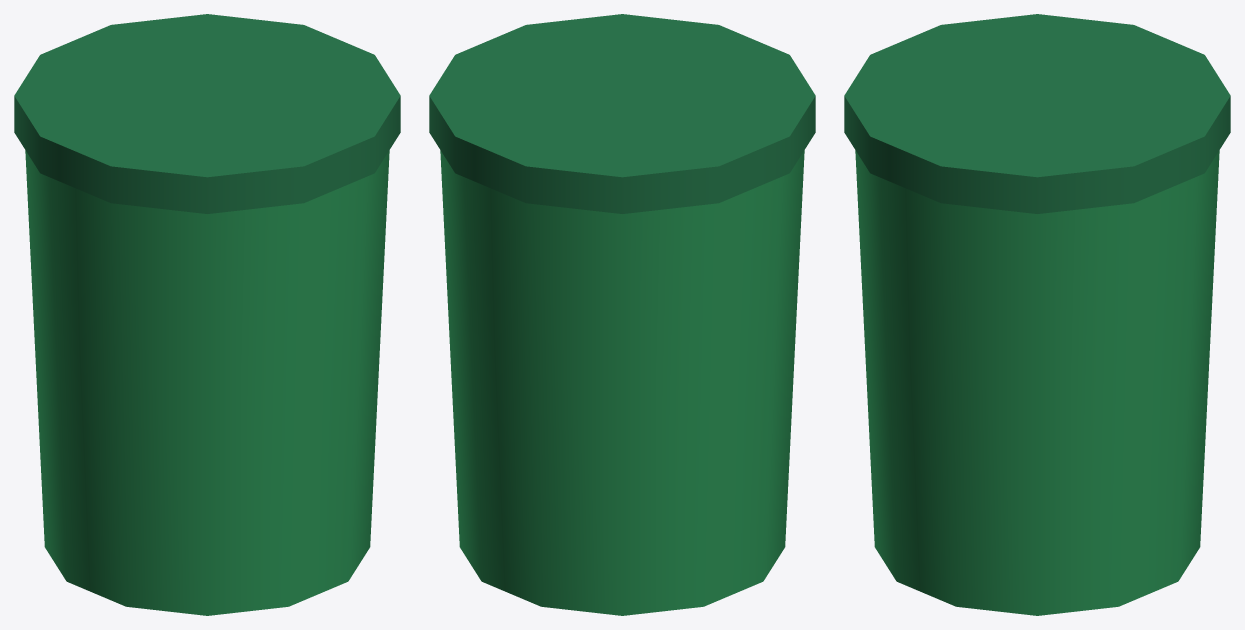
Rendered from bin.glb.
The picture shows the model from 3 angles, left to right: view 1: azimuth 30°, elevation 25°; view 2: azimuth 150°, elevation 25°; view 3: azimuth 270°, elevation 25°; orthographic projection.
Parts seen in each view (by area): view 1: bin_body; view 2: bin_body; view 3: bin_body.
Boxes of the visible parts, x1,y1,x2,y2 form: bin_body: (14,14,400,615); bin_body: (429,14,815,615); bin_body: (844,14,1230,615).
Size of the model in its own units: 0.76 by 0.98 by 0.76.
